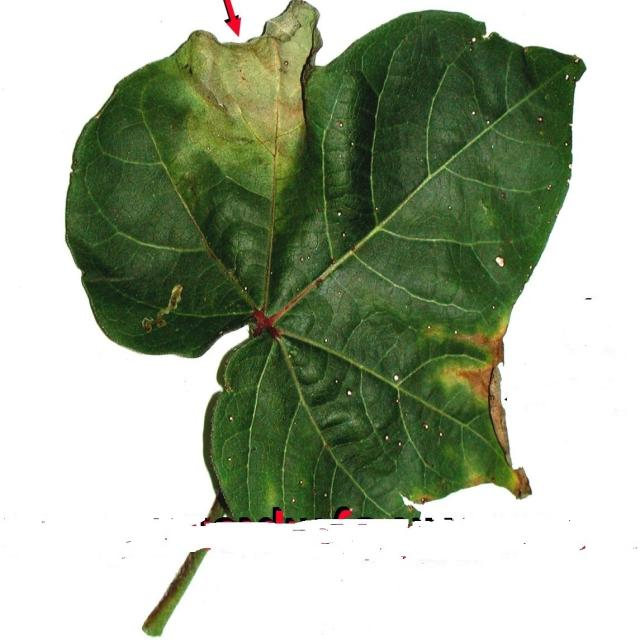Fusarium Wilt: (60, 7, 529, 526)
